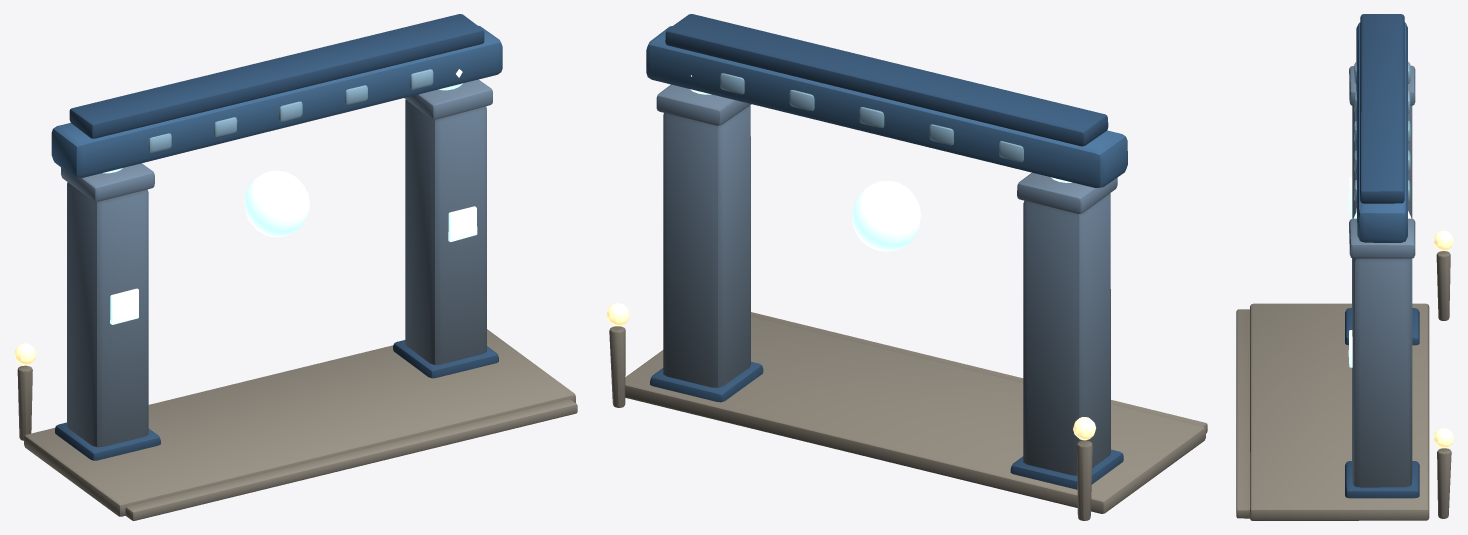
The picture shows the model from 3 angles, left to right: view 1: azimuth 30°, elevation 25°; view 2: azimuth 150°, elevation 25°; view 3: azimuth 270°, elevation 25°; orthographic projection. The views are drawn at different scales.
Parts seen in each view (by area): view 1: gate_02956dbf; view 2: gate_02956dbf; view 3: gate_02956dbf.
Boxes of the visible parts, x1,y1,x2,y2 form: gate_02956dbf: (14,14,577,520); gate_02956dbf: (606,14,1207,520); gate_02956dbf: (1236,14,1453,520).
Bounding box in the file's own units: 5.74 × 4.11 × 2.55.
